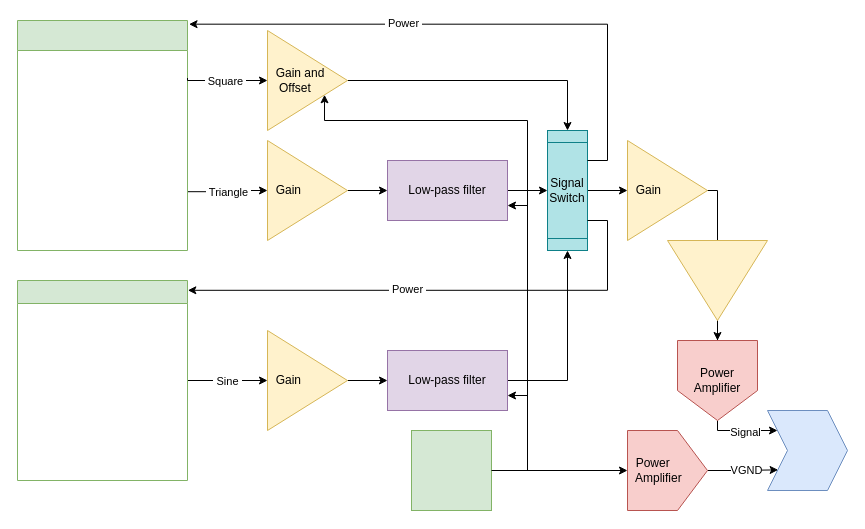
This 865x529 diagram has some shape labels left out. The centre of each missing label's shape, as x and y in pixels:
"15V Virtual Ground Reference" belongs at (x=451, y=470).
"Offset" belongs at (x=717, y=280).
"Output" belongs at (x=807, y=450).
"Sine wave Generator" belongs at (x=102, y=380).
"Square and Triangle wave Generator" belongs at (x=102, y=135).
